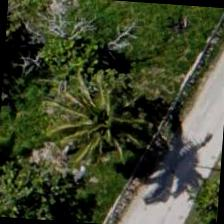Kelapa_Sawit: (56, 72, 152, 168)
